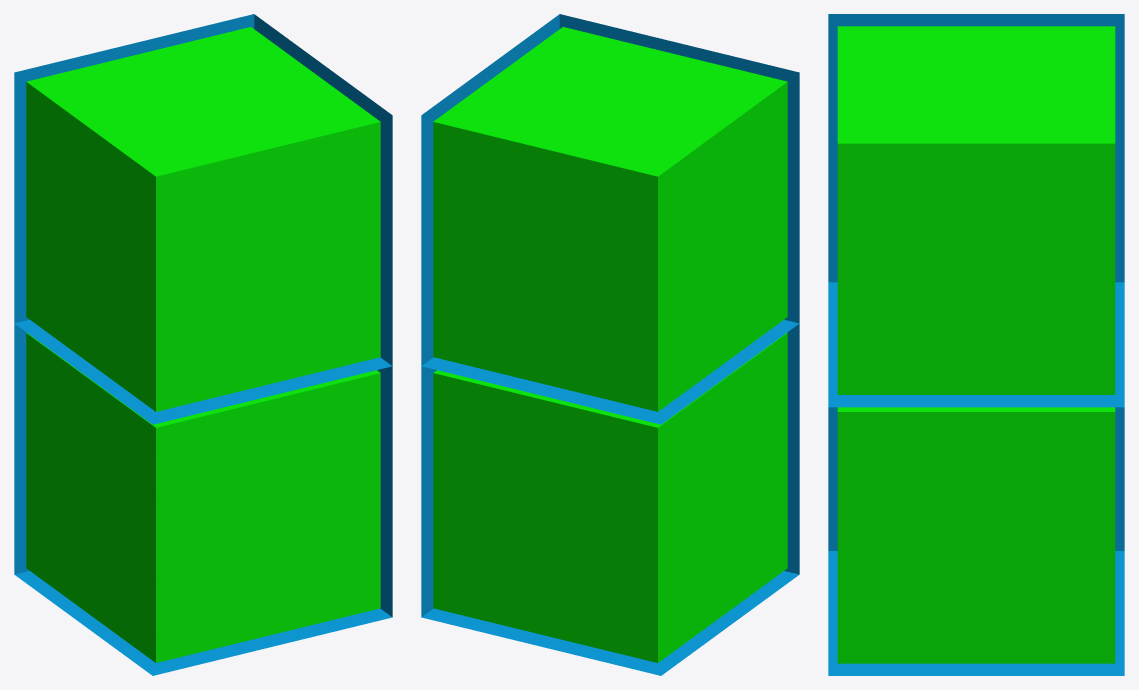
The model's file is GREEN_CUBE.glb.
3 views of the same model, side by side, from view 1: azimuth 30°, elevation 25°; view 2: azimuth 150°, elevation 25°; view 3: azimuth 270°, elevation 25° (orthographic). The views are drawn at different scales.
Visible parts, largest first — view 1: green_Box1, obj12, Sel_Box, obj9; view 2: green_Box1, obj12, Sel_Box, obj9; view 3: green_Box1, obj12, Sel_Box, obj9.
Part boxes in pixels (x1,y1,x2,y2): green_Box1: (26, 27, 380, 411); obj12: (26, 332, 380, 662); Sel_Box: (14, 14, 392, 424); obj9: (14, 323, 392, 675); green_Box1: (433, 27, 787, 411); obj12: (433, 332, 787, 662); Sel_Box: (421, 14, 799, 424); obj9: (421, 323, 799, 675); green_Box1: (837, 26, 1115, 394); obj12: (837, 407, 1115, 663); Sel_Box: (828, 14, 1124, 407); obj9: (828, 407, 1124, 675).
Size of the model in its own units: 3.2 by 6.4 by 3.2.
Materials: 4 (4 with a texture image).
